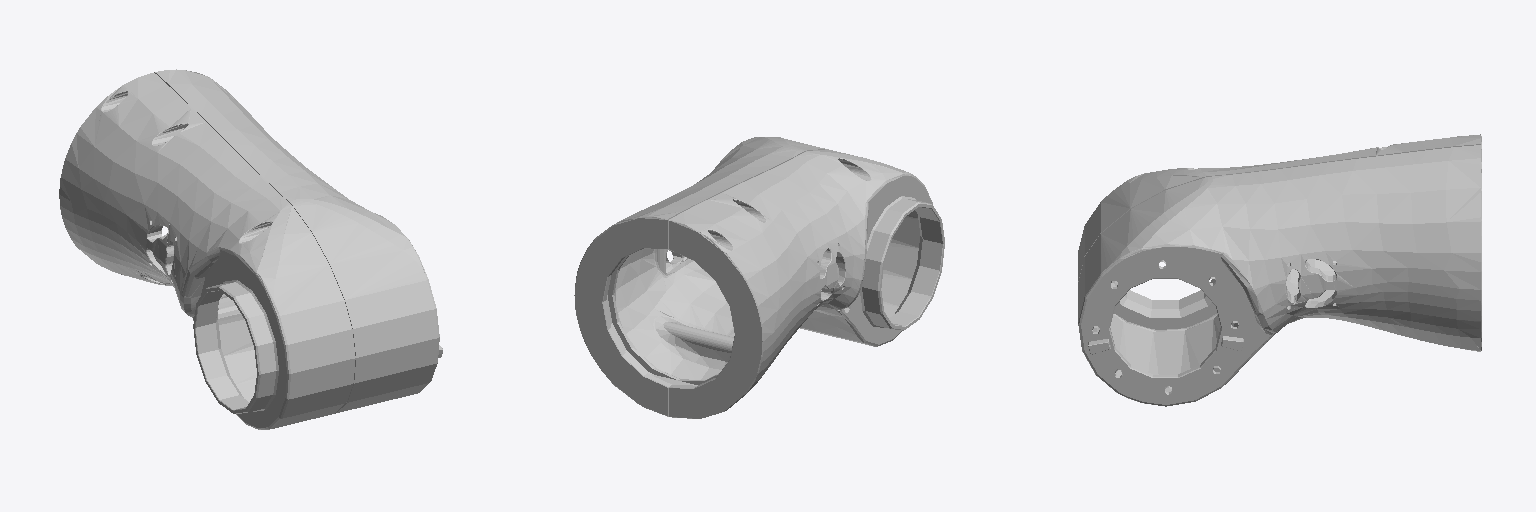
Rendered from right_arm_sho3_2.obj.
3 views of the same model, side by side, from view 1: azimuth 30°, elevation 25°; view 2: azimuth 150°, elevation 25°; view 3: azimuth 270°, elevation 25° (orthographic).
Size of the model in its own units: 0.1169 by 0.1285 by 0.2123.